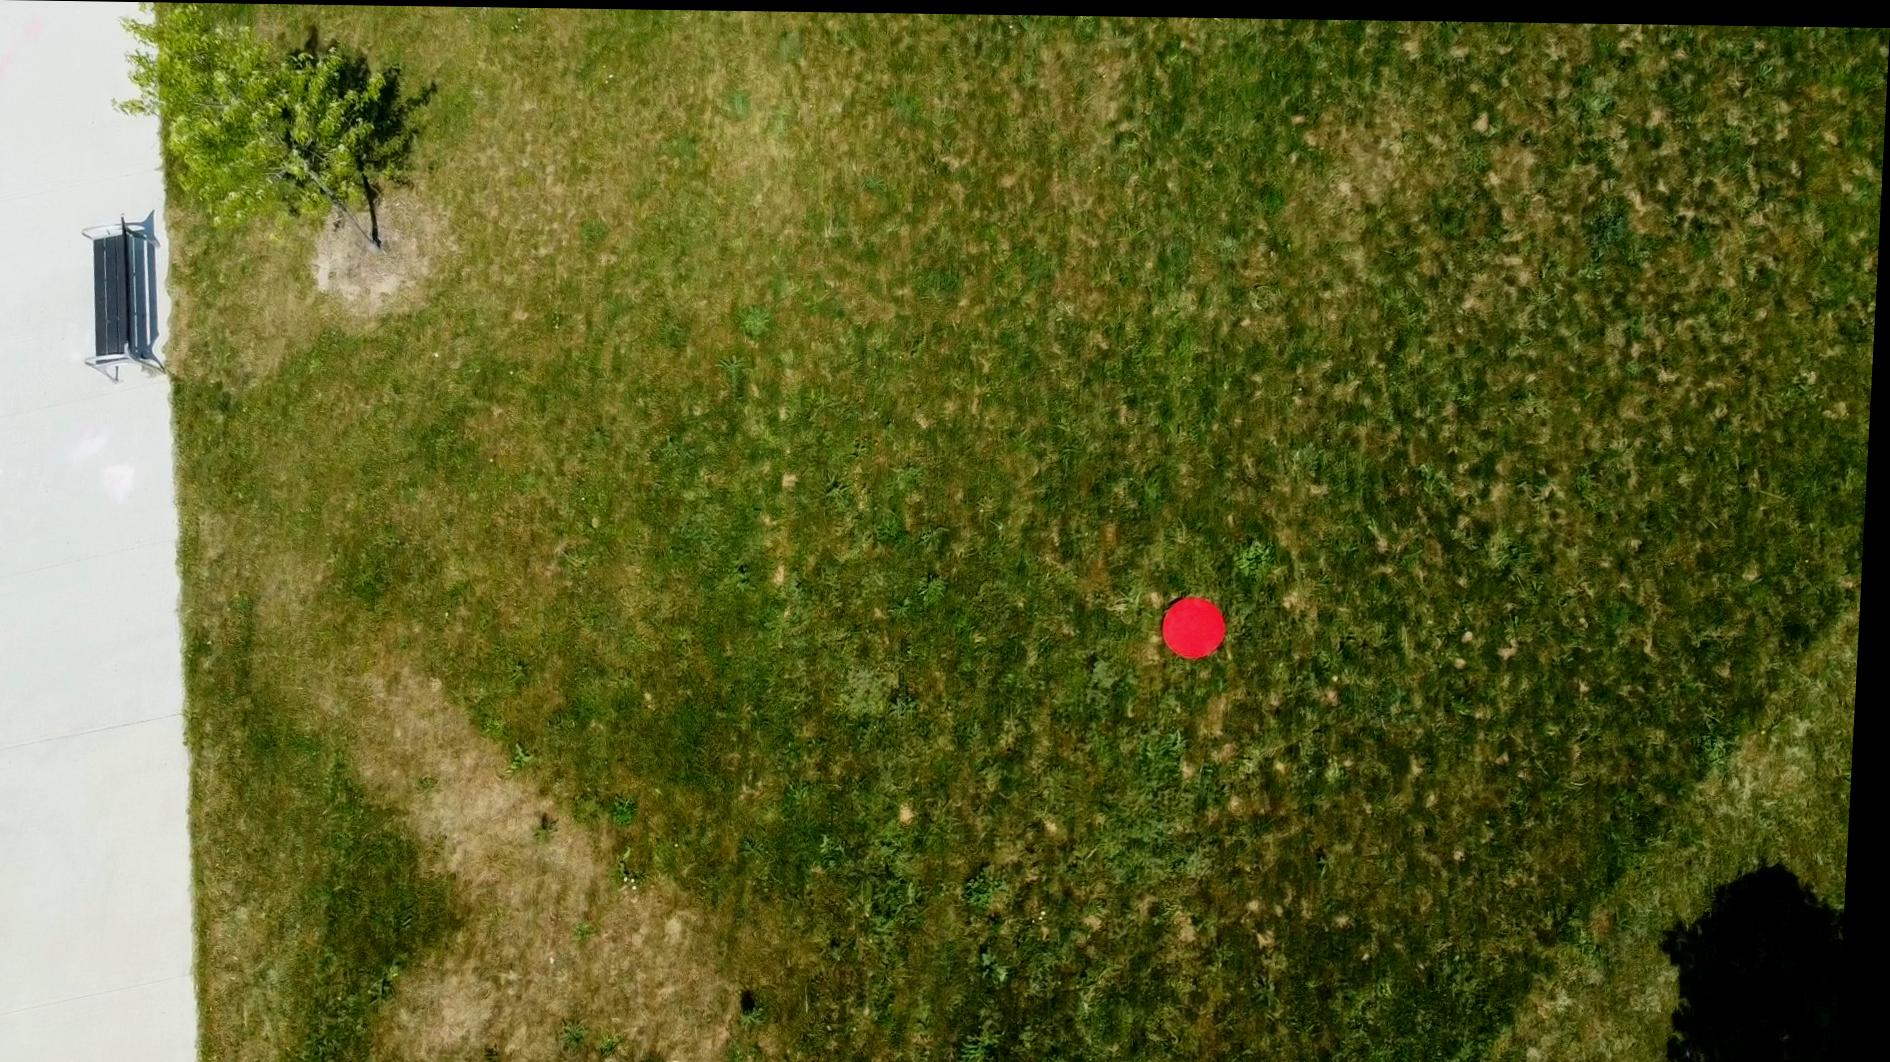Red: (1163, 589, 1237, 658)
